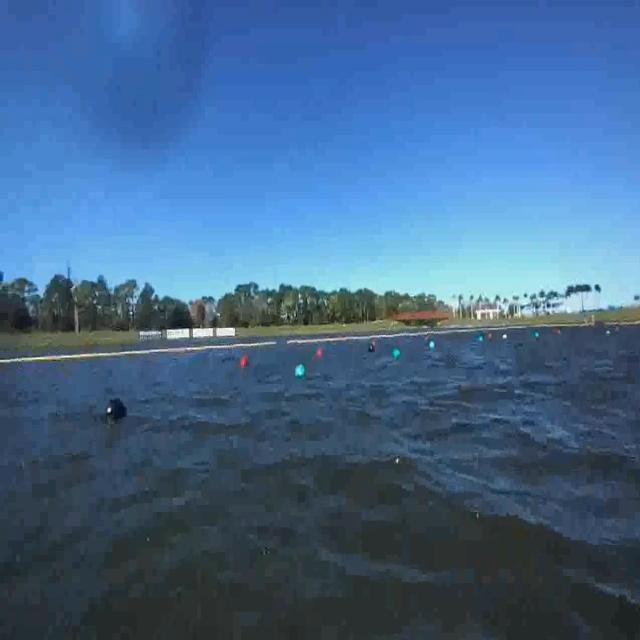black-buoy: (105, 396, 127, 419)
green-buoy: (294, 363, 305, 378), (393, 348, 400, 359)
red-buoy: (313, 345, 327, 362)
red-column-buoy: (241, 355, 249, 367)
